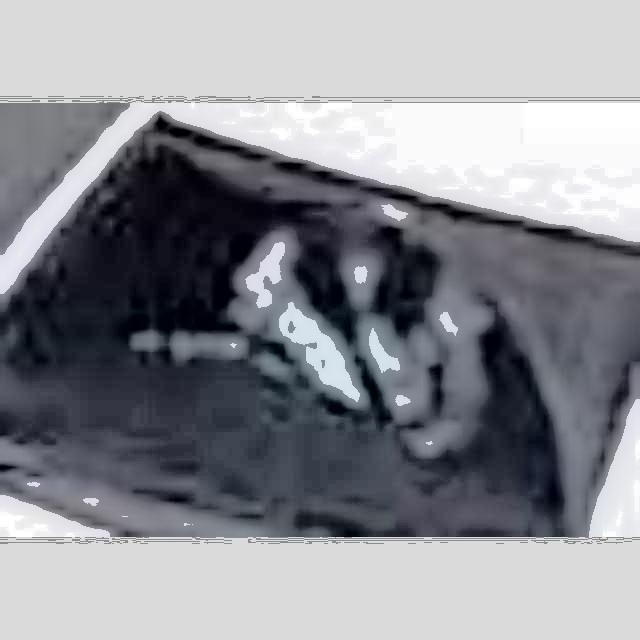pakai: (238, 226, 459, 439)
